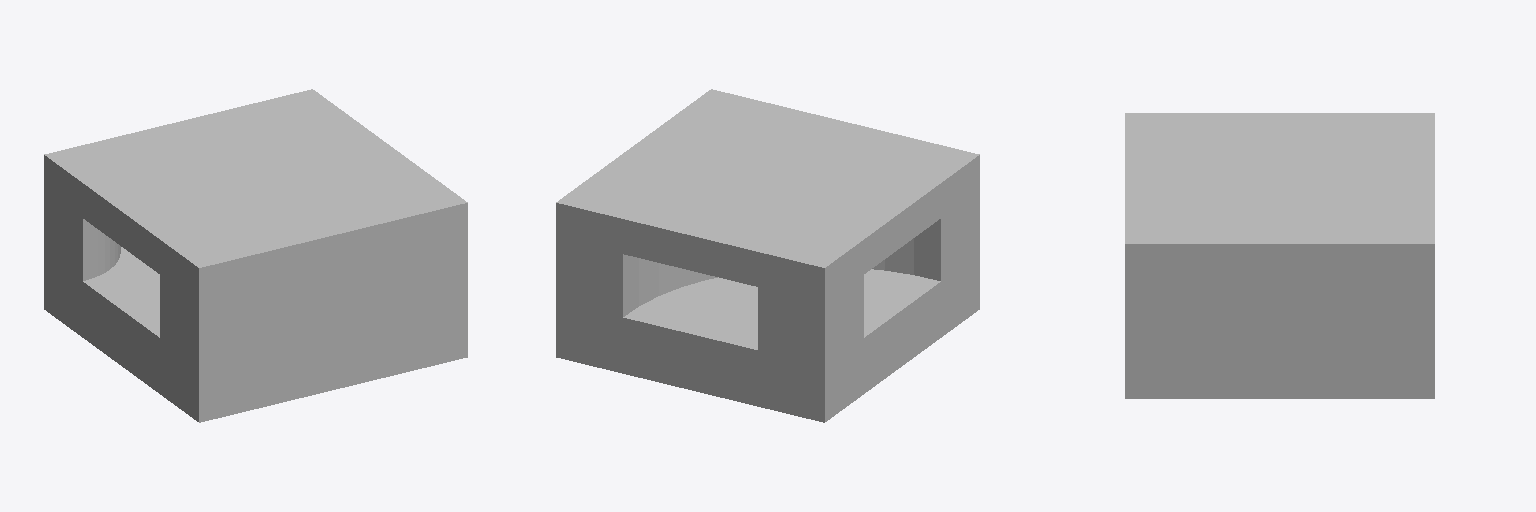
Rendered from tile250.obj.
The picture shows the model from 3 angles: view 1: azimuth 30°, elevation 25°; view 2: azimuth 150°, elevation 25°; view 3: azimuth 270°, elevation 25°; orthographic projection.
Visible parts, largest first — view 1: tile250; view 2: tile250; view 3: tile250.
Part boxes in pixels (left/top/right/bottom): tile250: left=44, top=89, right=467, bottom=422; tile250: left=556, top=89, right=979, bottom=422; tile250: left=1125, top=113, right=1434, bottom=398.
Bounding box in the file's own units: 1 × 0.55 × 1.